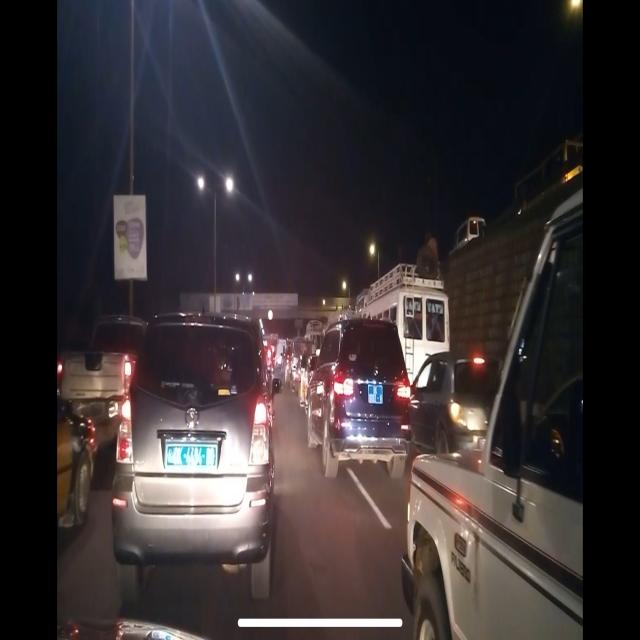ndiaga ndiaye: (352, 267, 453, 414), (410, 352, 509, 472)
